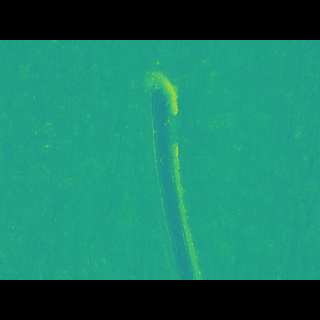Loch: (139, 89, 207, 250)
